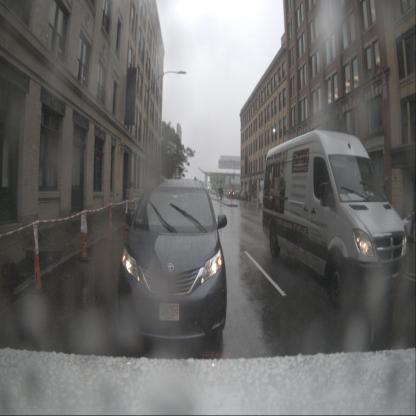movable_object-trafficcone: (30, 210, 47, 296), (78, 203, 90, 262), (106, 198, 115, 242), (123, 199, 130, 231)
vehicle-car: (262, 129, 408, 308), (118, 176, 228, 342), (258, 180, 280, 208), (400, 211, 416, 240), (240, 191, 249, 201), (216, 187, 224, 198), (227, 189, 234, 199), (233, 190, 240, 200), (236, 191, 243, 200)
